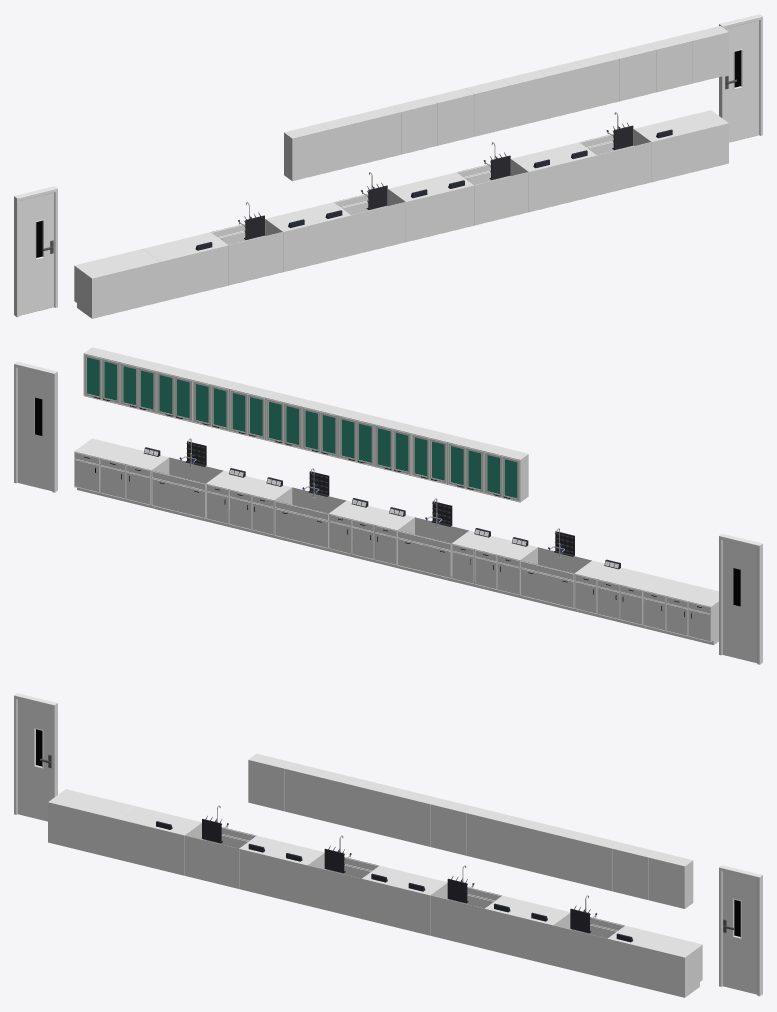
3 views of the same model, one above another, from view 1: azimuth 30°, elevation 25°; view 2: azimuth 150°, elevation 25°; view 3: azimuth 330°, elevation 25° (orthographic).
Parts seen in each view (by area): view 1: Obj3d66-1109493-33-342, Obj3d66-1109493-206-913, Obj3d66-1109493-77-197, Obj3d66-1109493-199-272, Obj3d66-1109493-156-434, Obj3d66-1109493-34-647, Obj3d66-1109493-15-383, Obj3d66-1109493-13-77, Obj3d66-1109493-118-466, Obj3d66-1109493-75-895, Obj3d66-1109493-197-220, Obj3d66-1109493-154-893 (+14 smaller); view 2: Obj3d66-1109493-206-913, Obj3d66-1109493-33-342, Obj3d66-1109493-156-434, Obj3d66-1109493-199-272, Obj3d66-1109493-77-197, Obj3d66-1109493-15-383, Obj3d66-1109493-13-77, Obj3d66-1109493-34-647, Obj3d66-1109493-197-220, Obj3d66-1109493-75-895, Obj3d66-1109493-154-893, Obj3d66-1109493-118-466 (+26 smaller); view 3: Obj3d66-1109493-206-913, Obj3d66-1109493-34-647, Obj3d66-1109493-33-342, Obj3d66-1109493-156-434, Obj3d66-1109493-77-197, Obj3d66-1109493-199-272, Obj3d66-1109493-13-77, Obj3d66-1109493-15-383, Obj3d66-1109493-197-220, Obj3d66-1109493-75-895, Obj3d66-1109493-118-466, Obj3d66-1109493-154-893 (+14 smaller).
Boxes of the visible parts, x1,y1,x2,y2 form: Obj3d66-1109493-33-342: (74, 249, 160, 318); Obj3d66-1109493-206-913: (633, 110, 728, 182); Obj3d66-1109493-77-197: (265, 202, 351, 272); Obj3d66-1109493-199-272: (511, 142, 596, 212); Obj3d66-1109493-156-434: (388, 172, 473, 242); Obj3d66-1109493-34-647: (143, 232, 228, 301); Obj3d66-1109493-15-383: (19, 192, 54, 315); Obj3d66-1109493-13-77: (724, 20, 759, 142); Obj3d66-1109493-118-466: (334, 189, 405, 255); Obj3d66-1109493-75-895: (211, 219, 282, 285); Obj3d66-1109493-197-220: (579, 129, 651, 195); Obj3d66-1109493-154-893: (456, 159, 528, 225); Obj3d66-1109493-206-913: (74, 438, 169, 508); Obj3d66-1109493-33-342: (643, 577, 718, 645); Obj3d66-1109493-156-434: (329, 500, 414, 568); Obj3d66-1109493-199-272: (206, 470, 291, 538); Obj3d66-1109493-77-197: (452, 530, 537, 598); Obj3d66-1109493-15-383: (722, 540, 757, 662); Obj3d66-1109493-13-77: (17, 368, 52, 490); Obj3d66-1109493-34-647: (574, 560, 660, 628); Obj3d66-1109493-197-220: (151, 457, 223, 521); Obj3d66-1109493-75-895: (520, 547, 591, 611); Obj3d66-1109493-154-893: (274, 487, 346, 551); Obj3d66-1109493-118-466: (397, 517, 468, 581); Obj3d66-1109493-206-913: (607, 925, 702, 997); Obj3d66-1109493-34-647: (116, 805, 202, 875); Obj3d66-1109493-33-342: (48, 789, 133, 858); Obj3d66-1109493-156-434: (362, 866, 447, 935); Obj3d66-1109493-77-197: (239, 836, 324, 905); Obj3d66-1109493-199-272: (484, 895, 570, 965); Obj3d66-1109493-13-77: (722, 871, 757, 994); Obj3d66-1109493-15-383: (17, 699, 52, 821); Obj3d66-1109493-197-220: (553, 914, 624, 978); Obj3d66-1109493-75-895: (184, 824, 256, 888); Obj3d66-1109493-118-466: (307, 853, 379, 918); Obj3d66-1109493-154-893: (430, 883, 501, 948).
Size of the model in its own units: 16400 by 899 by 2766.
